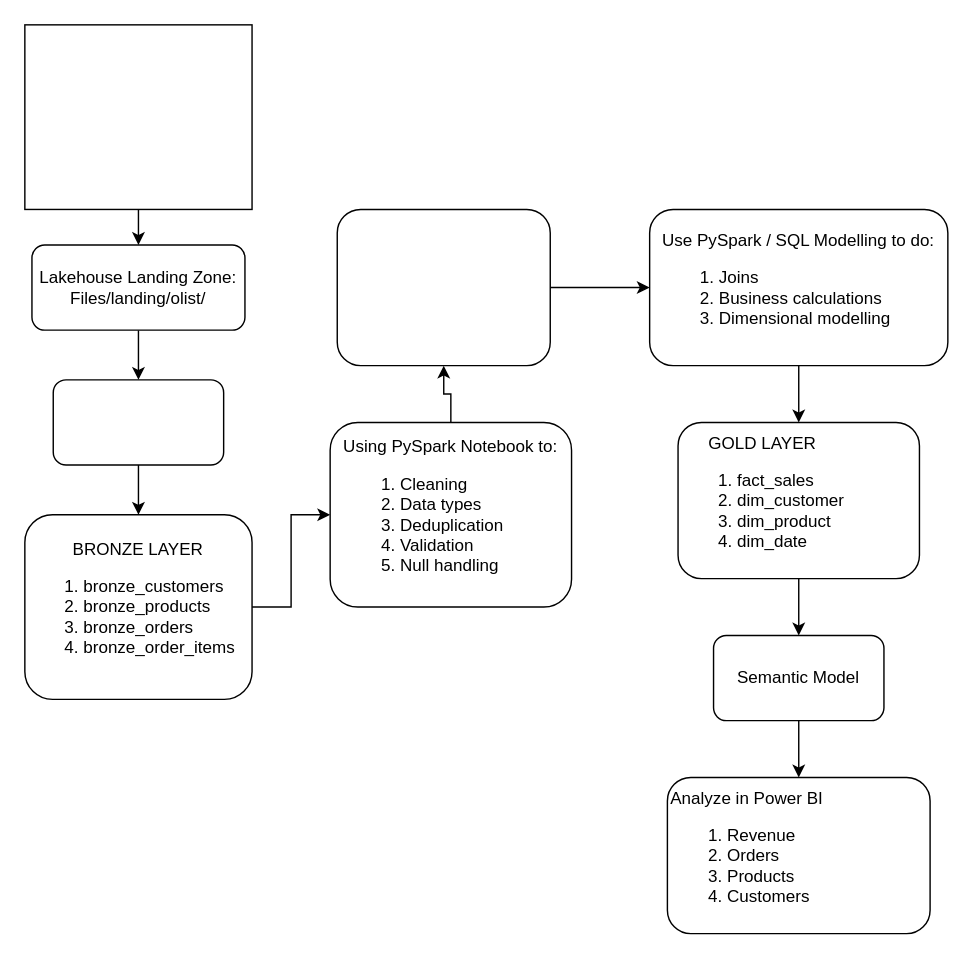
Image size: 973x959. Some labels were removed from this diagram. The centre of each missing label's shape, as x and y in pixels:
Fabric Data Pipeline: pl_ingest_olist: point 138,421
Olist Dataset customers.csv products.csv orders.csv order_items.csv: point 137,116
SILVER LAYER silver_customers silver_products silver_orders silver_order_items: point 443,287
